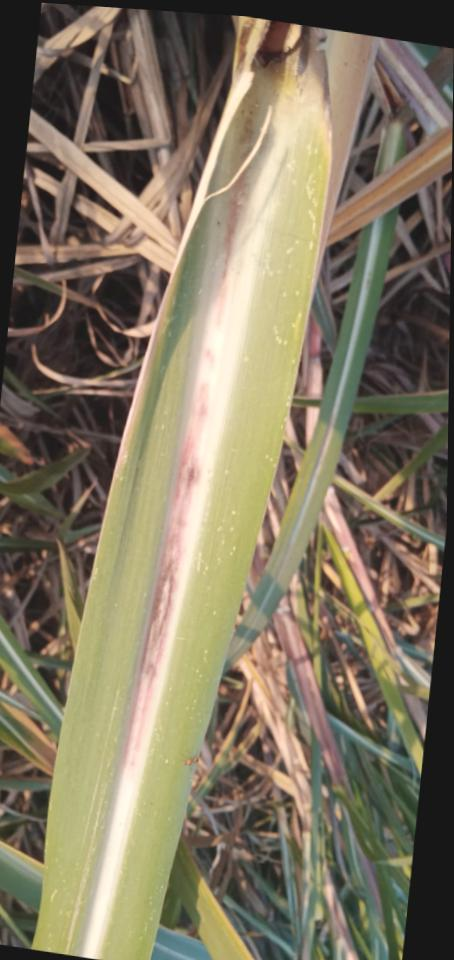RedRot: (117, 166, 249, 772)
